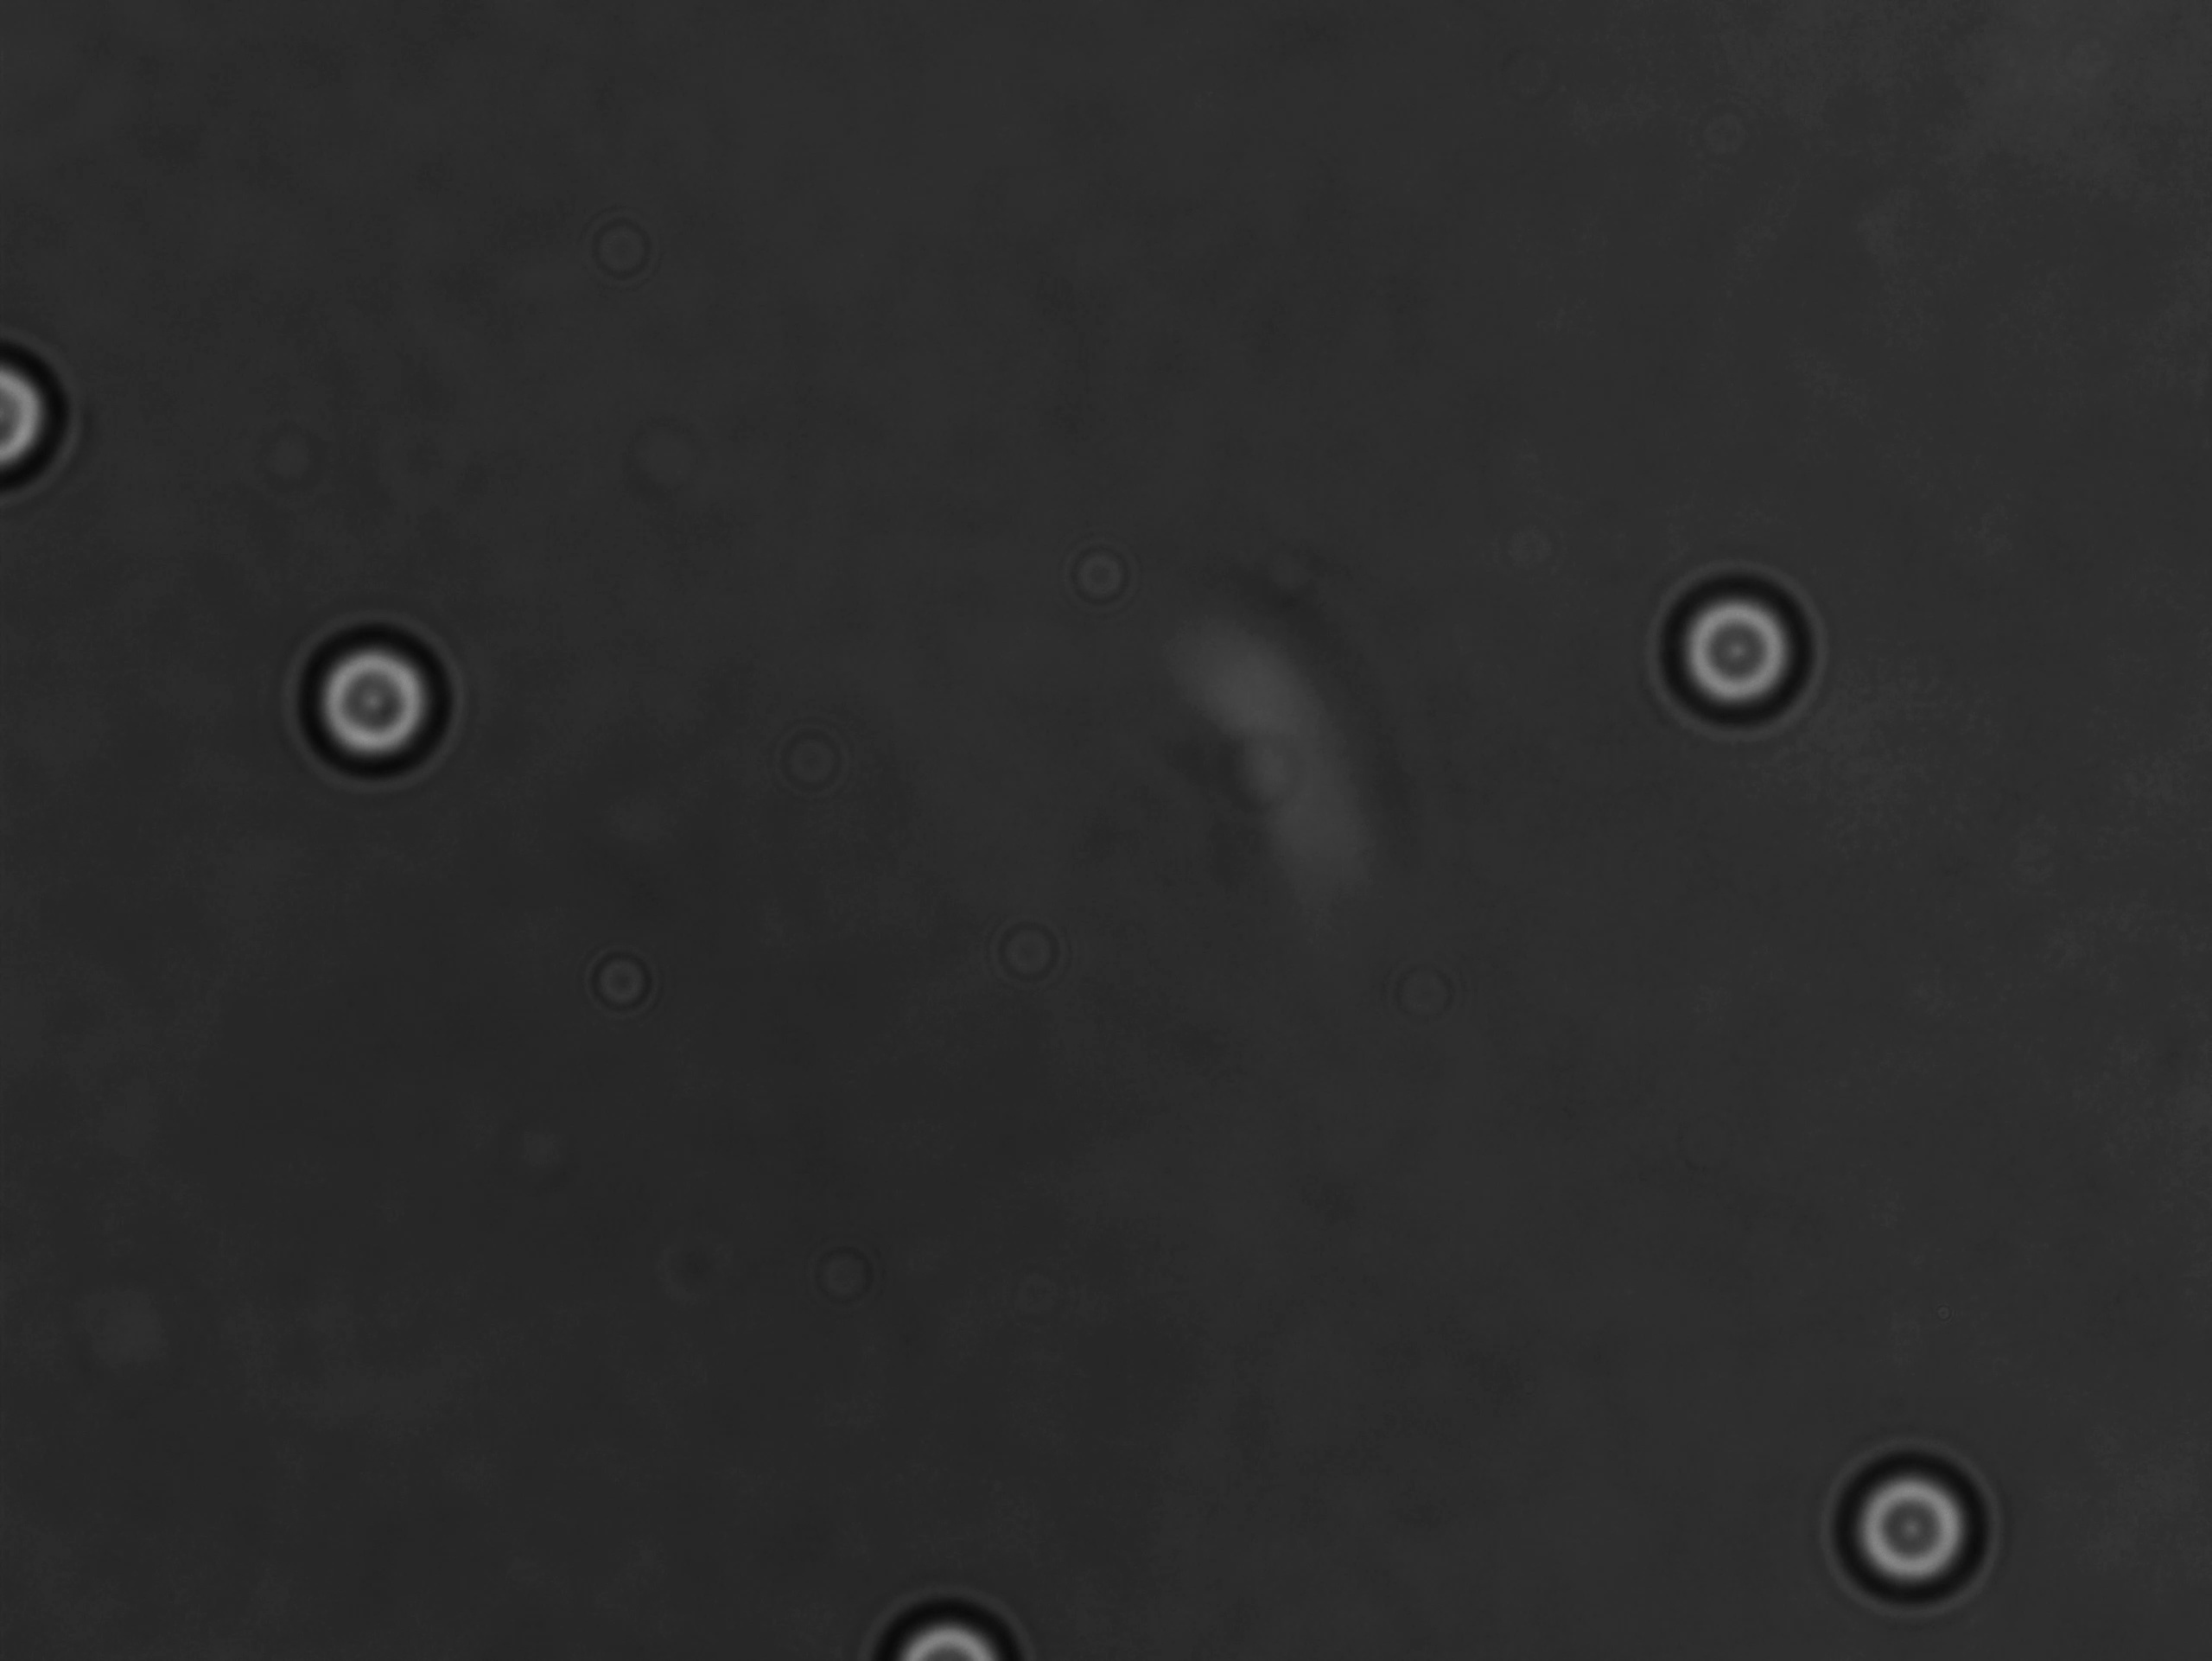depth:40: (1814, 1420, 1996, 1605), (1654, 567, 1844, 743), (288, 609, 462, 796)
